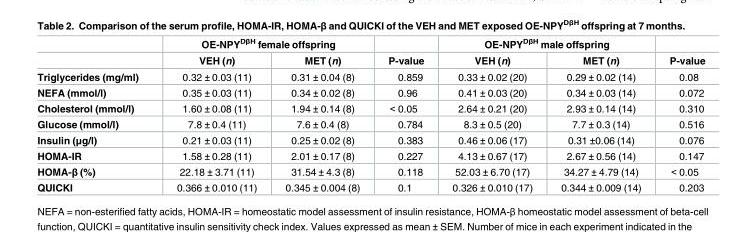table: (36, 36, 704, 192)
table column: (36, 36, 156, 192), (156, 36, 270, 192), (437, 36, 546, 192), (546, 36, 654, 192), (270, 36, 373, 192), (373, 36, 437, 192), (654, 36, 704, 192)
table column header: (36, 36, 704, 68)
table row: (36, 36, 704, 52), (36, 52, 704, 68), (36, 68, 704, 84), (36, 84, 704, 100), (36, 115, 704, 131), (36, 131, 704, 147), (36, 147, 704, 163), (36, 163, 704, 179), (36, 100, 704, 115), (36, 179, 704, 192)
table spanning cell: (156, 36, 373, 52), (437, 36, 654, 52), (373, 36, 437, 68), (654, 36, 704, 68)
